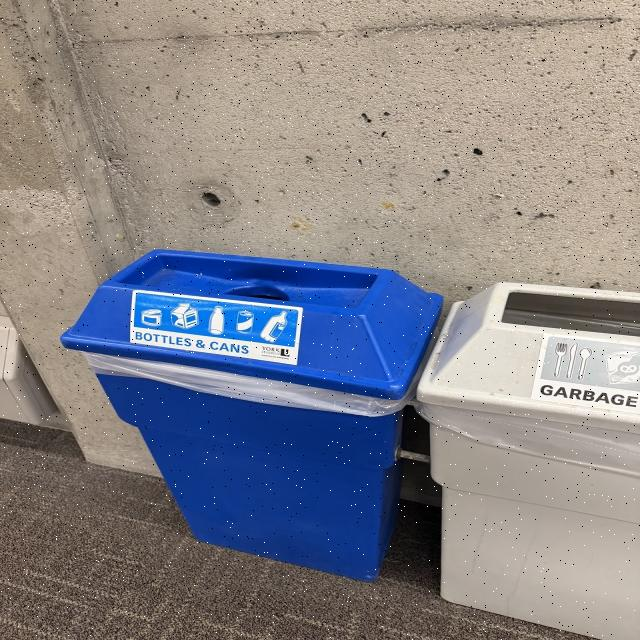Dustbin: (60, 250, 640, 639)
